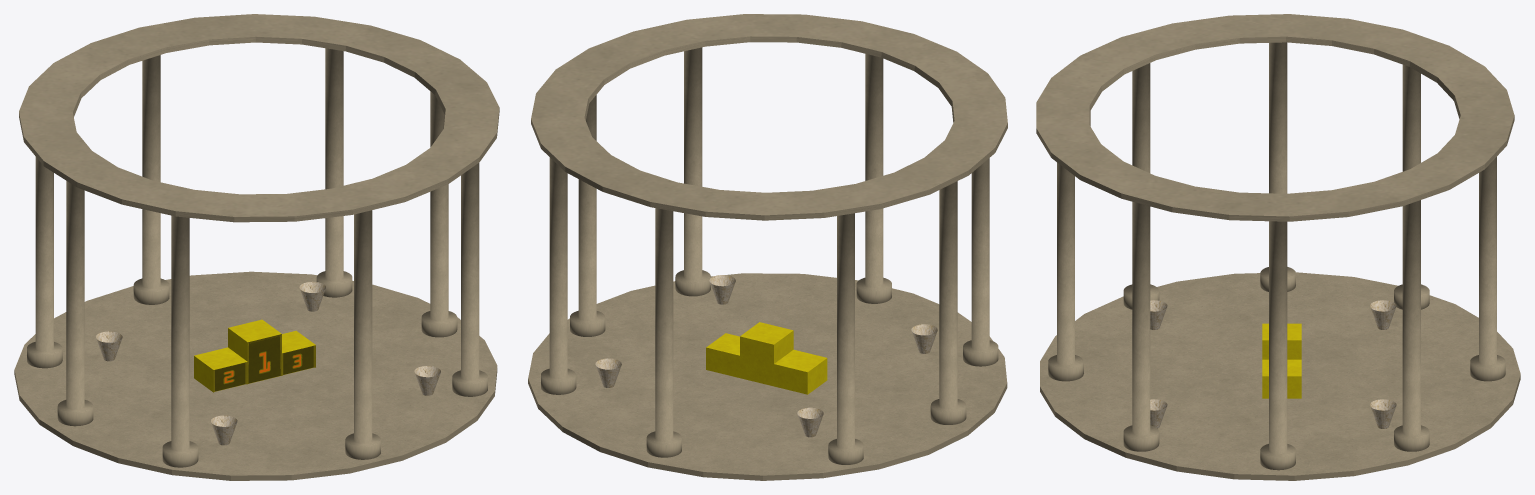
Rendered from victoria.obj.
3 views of the same model, side by side, from view 1: azimuth 30°, elevation 25°; view 2: azimuth 150°, elevation 25°; view 3: azimuth 270°, elevation 25° (orthographic).
Parts seen in each view (by area): view 1: abajo_abajoH, arriba_arribaH, Podio_PodioH, col3.006_col3H.006, col3.002_col3H.002, col3.001_col3H.001, col3.007_col3H.007, col3.003_col3H.003, col3.004_col3H.004, col3.005_col3H.005, col3_col3H, fuego.003_fuegoH.007 (+3 smaller); view 2: abajo_abajoH, arriba_arribaH, Podio_PodioH, col3.003_col3H.003, col3.001_col3H.001, col3.005_col3H.005, col3.004_col3H.004, col3.007_col3H.007, col3.002_col3H.002, col3.006_col3H.006, col3_col3H, fuego.003_fuegoH.007 (+3 smaller); view 3: abajo_abajoH, arriba_arribaH, col3_col3H, col3.007_col3H.007, col3.004_col3H.004, col3.003_col3H.003, col3.002_col3H.002, col3.001_col3H.001, col3.006_col3H.006, col3.005_col3H.005, Podio_PodioH, fuego.001_fuegoH.006 (+1 smaller).
Boxes of the visible parts, box(x1,y1,x2,y2) form: abajo_abajoH: box(14, 271, 497, 480); arriba_arribaH: box(19, 14, 499, 222); Podio_PodioH: box(194, 319, 315, 392); col3.006_col3H.006: box(162, 215, 198, 467); col3.002_col3H.002: box(345, 210, 380, 459); col3.001_col3H.001: box(57, 181, 93, 426); col3.007_col3H.007: box(452, 163, 487, 396); col3.003_col3H.003: box(133, 55, 169, 304); col3.004_col3H.004: box(316, 48, 352, 297); col3.005_col3H.005: box(27, 157, 62, 368); col3_col3H: box(421, 91, 457, 337); fuego.003_fuegoH.007: box(211, 415, 237, 445); abajo_abajoH: box(528, 273, 1007, 480); arriba_arribaH: box(531, 14, 1007, 220); Podio_PodioH: box(706, 322, 827, 394); col3.003_col3H.003: box(646, 208, 681, 457); col3.001_col3H.001: box(930, 181, 966, 424); col3.005_col3H.005: box(828, 213, 863, 464); col3.004_col3H.004: box(541, 157, 576, 394); col3.007_col3H.007: box(675, 47, 710, 296); col3.002_col3H.002: box(856, 54, 891, 303); col3.006_col3H.006: box(963, 158, 998, 366); col3_col3H: box(570, 95, 605, 336); fuego.003_fuegoH.007: box(911, 324, 937, 353); abajo_abajoH: box(1040, 272, 1520, 480); arriba_arribaH: box(1036, 14, 1514, 221); col3_col3H: box(1260, 221, 1295, 470); col3.007_col3H.007: box(1123, 201, 1159, 451); col3.004_col3H.004: box(1394, 200, 1429, 451); col3.003_col3H.003: box(1470, 157, 1505, 381); col3.002_col3H.002: box(1048, 162, 1083, 381); col3.001_col3H.001: box(1260, 42, 1295, 291); col3.006_col3H.006: box(1123, 63, 1159, 309); col3.005_col3H.005: box(1394, 64, 1429, 309); Podio_PodioH: box(1262, 323, 1301, 398); fuego.001_fuegoH.006: box(1370, 300, 1396, 329).
Bounding box in the file's own units: 37.96 × 23.01 × 38.19.
Materials: 4 (4 with a texture image).
